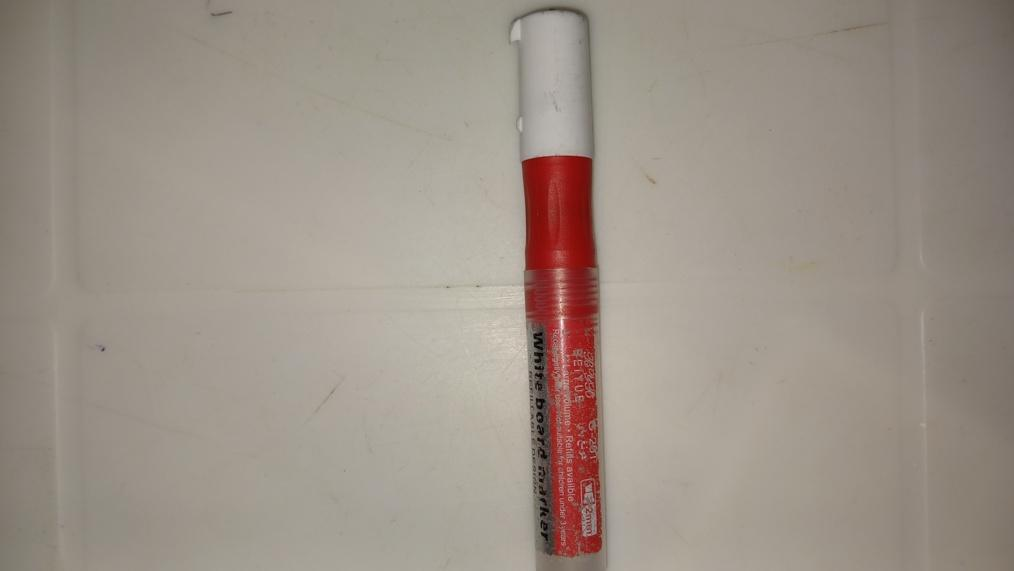Whiteboard marker: (516, 0, 600, 571)
